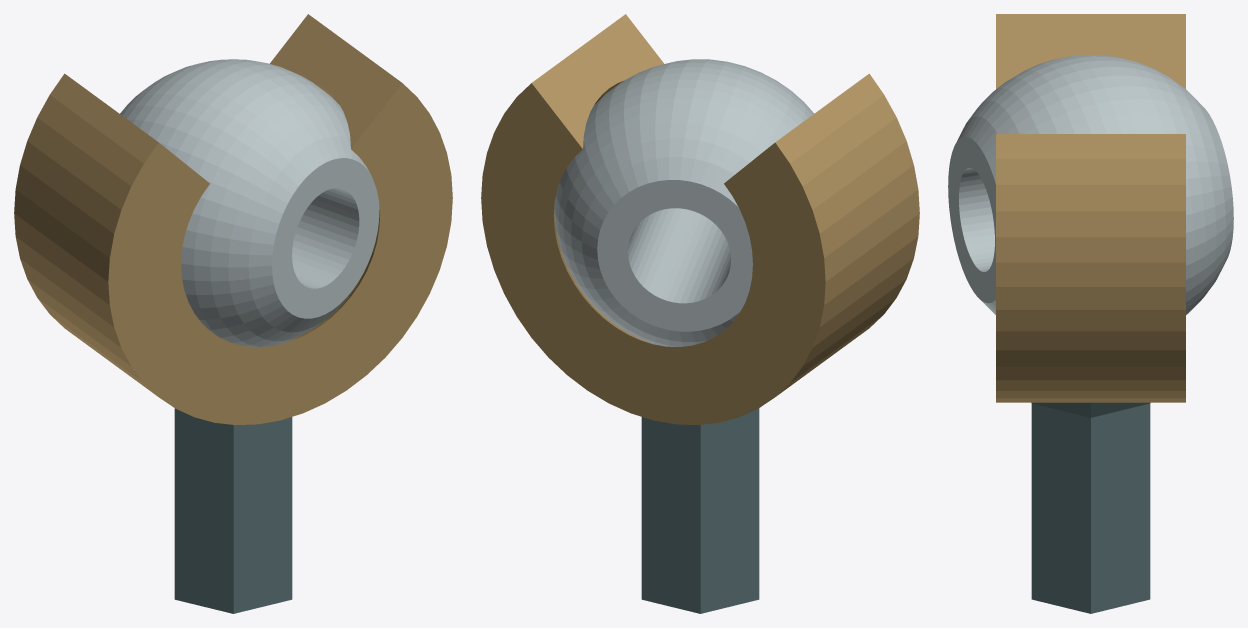
3 renders of one model, left to right at view 1: azimuth 30°, elevation 25°; view 2: azimuth 150°, elevation 25°; view 3: azimuth 270°, elevation 25°, orthographic.
Parts seen in each view (by area): view 1: WholeCutawayConcaveSphericalEye, WholeThroughBoredInnerSphericalMember, WholeHexagonalRodStem; view 2: WholeCutawayConcaveSphericalEye, WholeThroughBoredInnerSphericalMember, WholeHexagonalRodStem; view 3: WholeCutawayConcaveSphericalEye, WholeThroughBoredInnerSphericalMember, WholeHexagonalRodStem.
Part boxes in pixels (x1,y1,x2,y2): WholeCutawayConcaveSphericalEye: (14, 14, 452, 425); WholeThroughBoredInnerSphericalMember: (120, 59, 379, 346); WholeHexagonalRodStem: (174, 408, 292, 613); WholeCutawayConcaveSphericalEye: (481, 14, 919, 425); WholeThroughBoredInnerSphericalMember: (554, 59, 814, 346); WholeHexagonalRodStem: (641, 408, 759, 613); WholeCutawayConcaveSphericalEye: (996, 14, 1185, 402); WholeThroughBoredInnerSphericalMember: (948, 55, 1233, 314); WholeHexagonalRodStem: (1031, 402, 1150, 613).
Size of the model in its own units: 0.38 by 0.54 by 0.2707.
